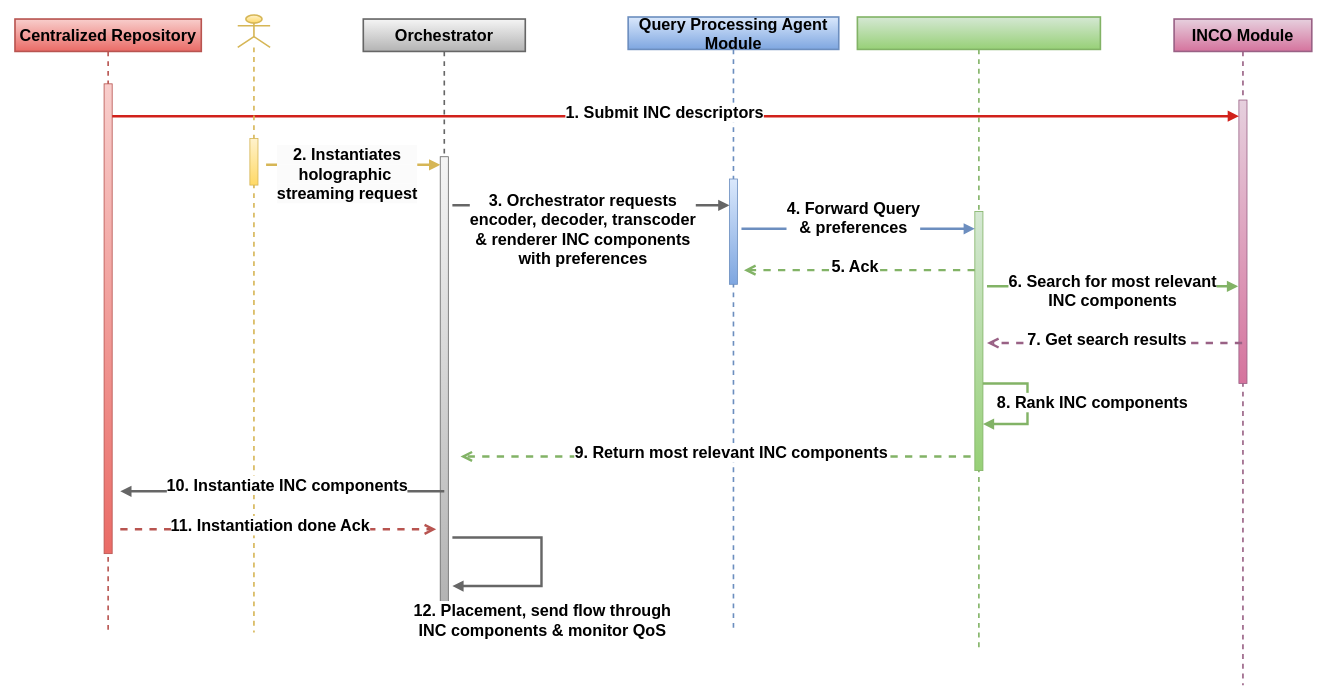
Image size: 1326x700. Some labels were removed from this diagram. The shapes that lost their labels are listed below. From the top down, each one's box as (x1, y1, x2, y2) in pixels, then its label:
(237, 14, 271, 633): User
(856, 16, 1101, 651): Semantic Matchmaker Module
